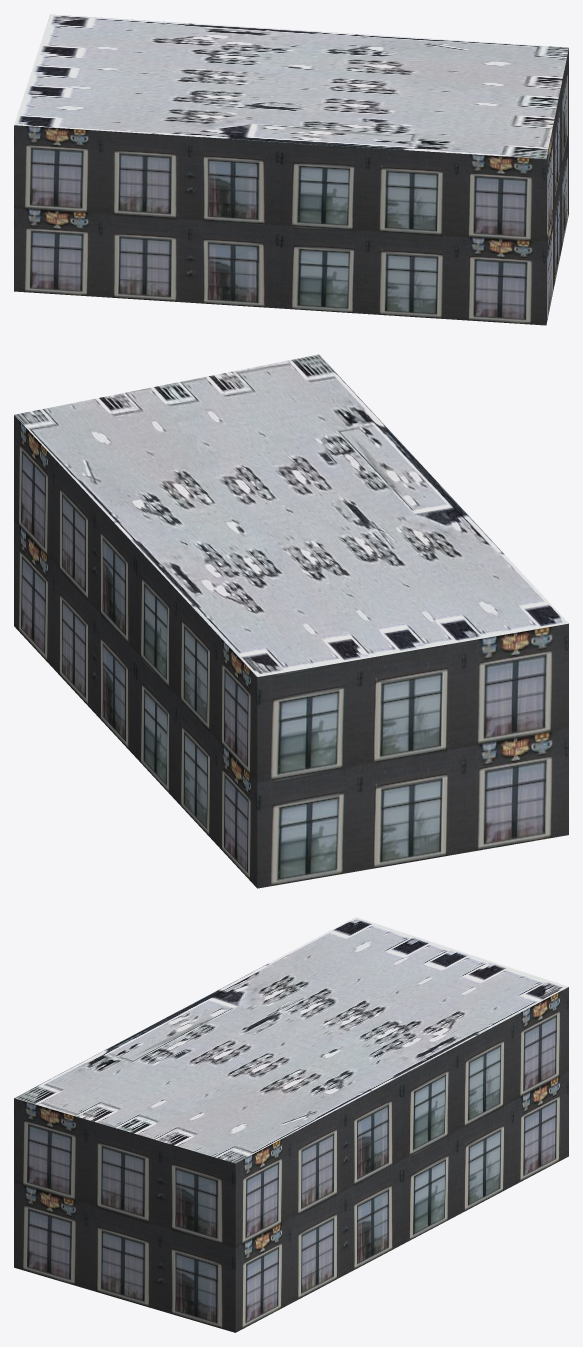
File: ResTex__178.fbx
3 renders of one model, top to bottom at view 1: azimuth 30°, elevation 25°; view 2: azimuth 150°, elevation 25°; view 3: azimuth 270°, elevation 25°, orthographic. The views are drawn at different scales.
Visible parts, largest first — view 1: CityEngineMaterial_22_m, CityEngineMaterial_4_m; view 2: CityEngineMaterial_22_m, CityEngineMaterial_4_m; view 3: CityEngineMaterial_22_m, CityEngineMaterial_4_m.
Boxes of the visible parts, box(x1,y1,x2,y2) form: CityEngineMaterial_22_m: box(14, 48, 568, 325); CityEngineMaterial_4_m: box(14, 14, 568, 159); CityEngineMaterial_22_m: box(14, 415, 568, 888); CityEngineMaterial_4_m: box(14, 354, 568, 676); CityEngineMaterial_22_m: box(14, 987, 568, 1332); CityEngineMaterial_4_m: box(14, 917, 568, 1163).
Bounding box in the file's own units: 18.72 × 6 × 17.81.
Materials: 2 (2 with a texture image).
